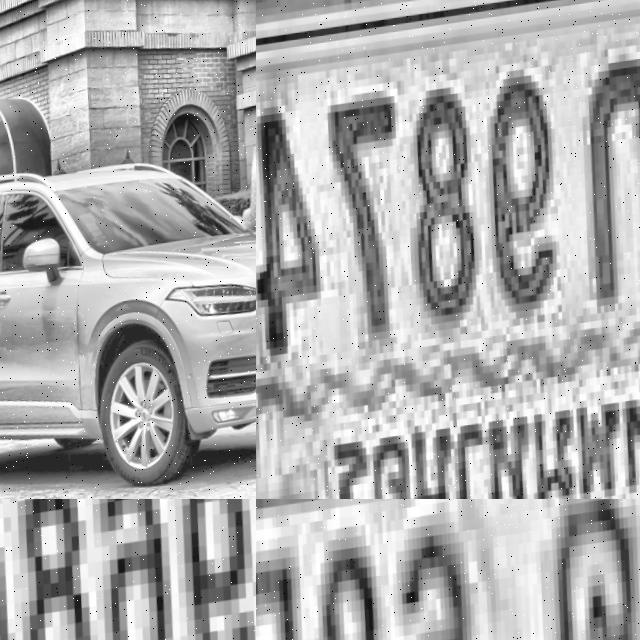license-plate: (256, 0, 640, 499), (256, 499, 640, 640), (0, 499, 256, 640)
